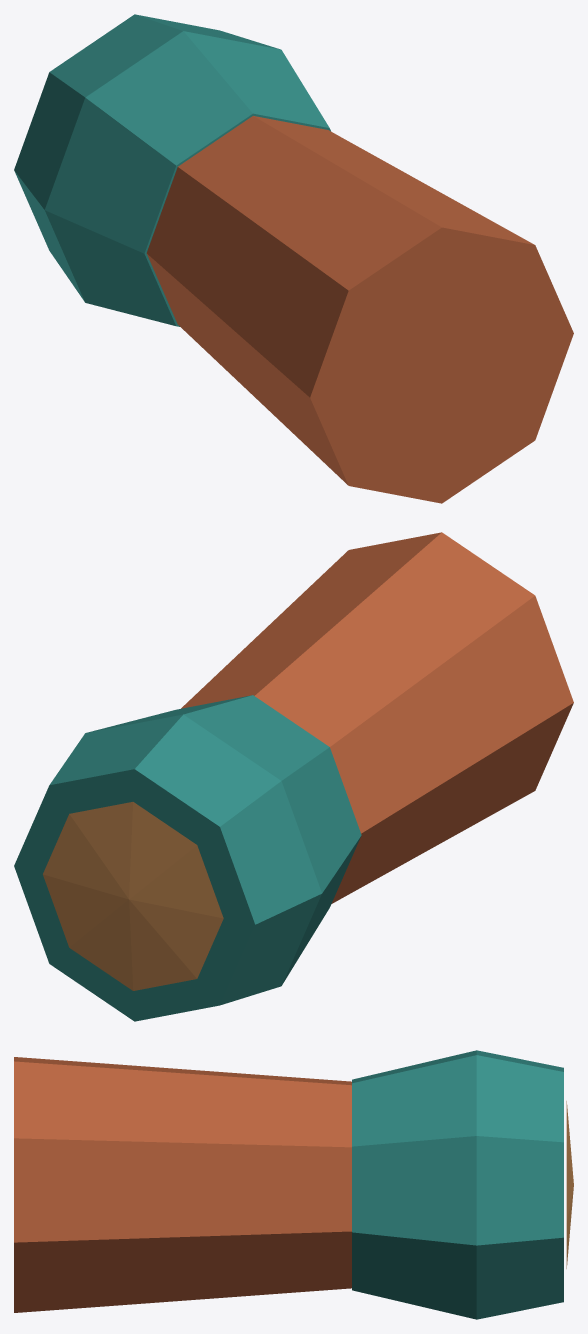
Rendered from thruster.gltf.
3 renders of one model, top to bottom at view 1: azimuth 30°, elevation 25°; view 2: azimuth 150°, elevation 25°; view 3: azimuth 270°, elevation 25°, orthographic. The views are drawn at different scales.
Parts seen in each view (by area): view 1: pod, bell; view 2: bell, pod; view 3: pod, bell.
Part boxes in pixels (x1,y1,x2,y2): pod: (146, 116, 573, 503); bell: (14, 14, 330, 326); bell: (14, 695, 361, 1021); pod: (181, 532, 573, 903); pod: (14, 1057, 351, 1312); bell: (352, 1050, 573, 1319).
Size of the model in its own units: 0.736 by 0.736 by 1.44.
